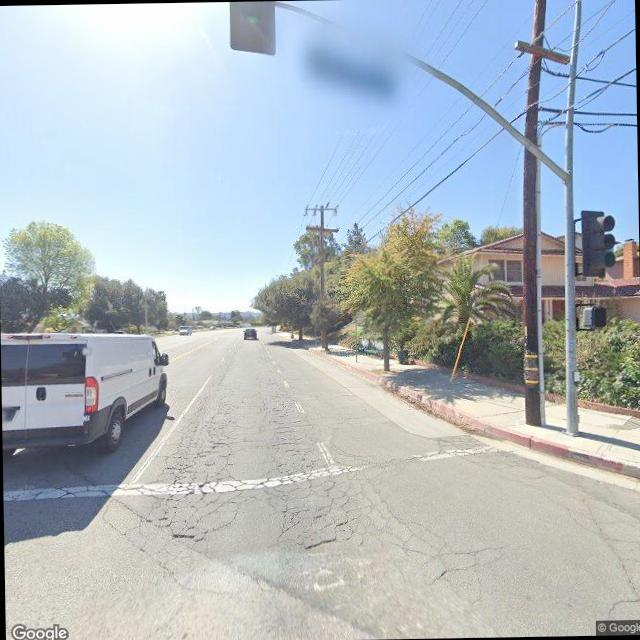crack: (98, 394, 456, 589)
